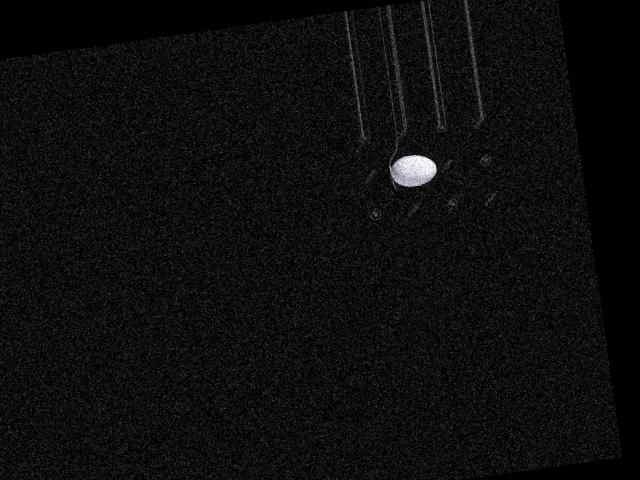egg: (388, 151, 438, 189)
